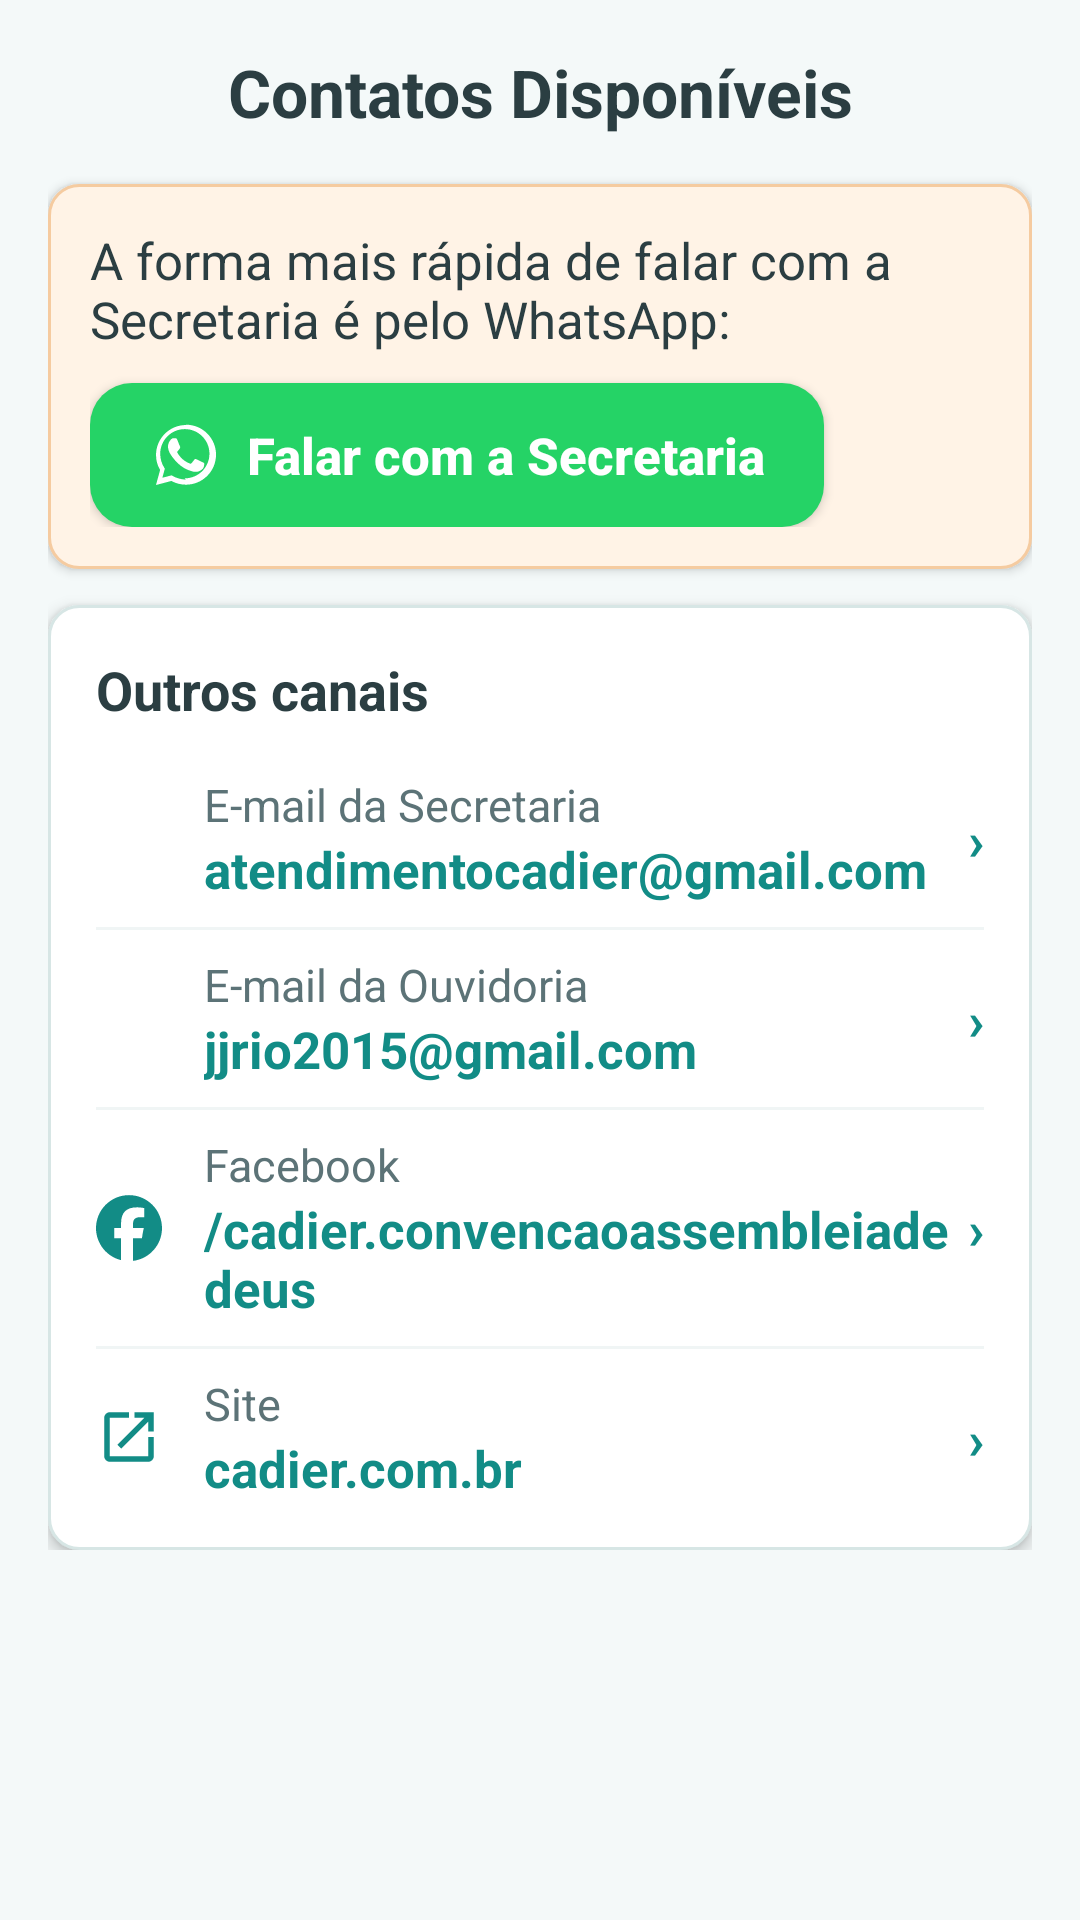

Icon click points for this 1080px x 1920px phone screenshot, format (x=x, y=y):
link: (x=129, y=1437)
